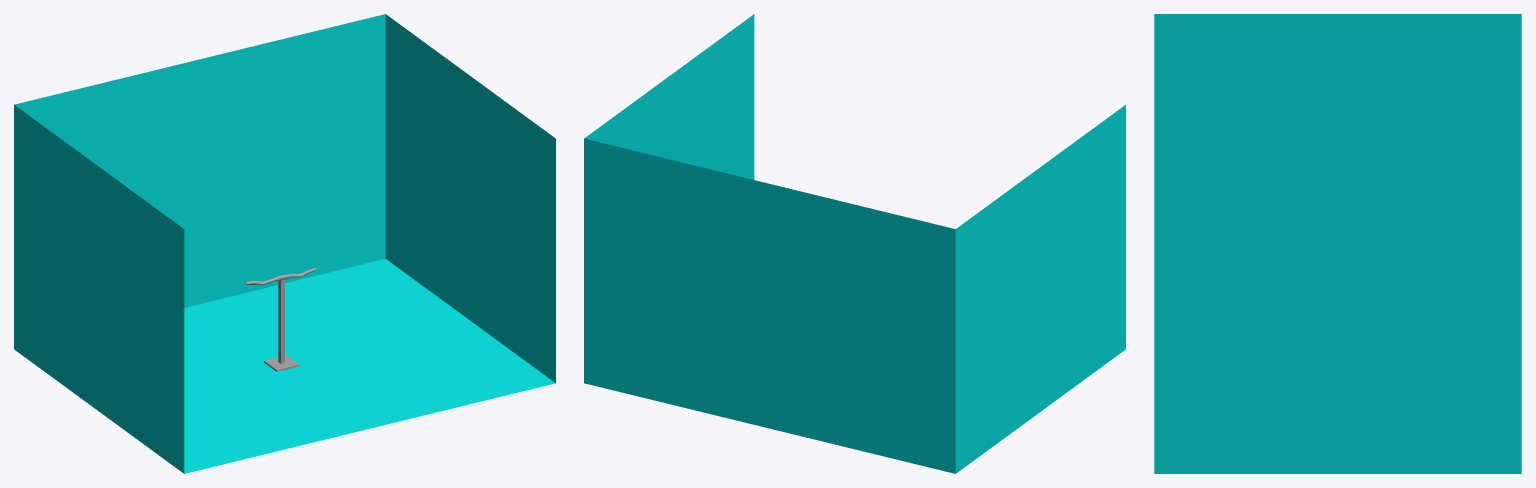
File: SM_BirdMiniGame.fbx
3 renders of one model, left to right at view 1: azimuth 30°, elevation 25°; view 2: azimuth 150°, elevation 25°; view 3: azimuth 270°, elevation 25°, orthographic. The views are drawn at different scales.
Parts seen in each view (by area): view 1: SM_BirdMiniGame; view 2: SM_BirdMiniGame; view 3: SM_BirdMiniGame.
Part boxes in pixels (x1,y1,x2,y2): SM_BirdMiniGame: [14, 14, 555, 473]; SM_BirdMiniGame: [584, 14, 1125, 473]; SM_BirdMiniGame: [1154, 14, 1521, 473].
Bounding box in the file's own units: 908 × 572 × 720.
